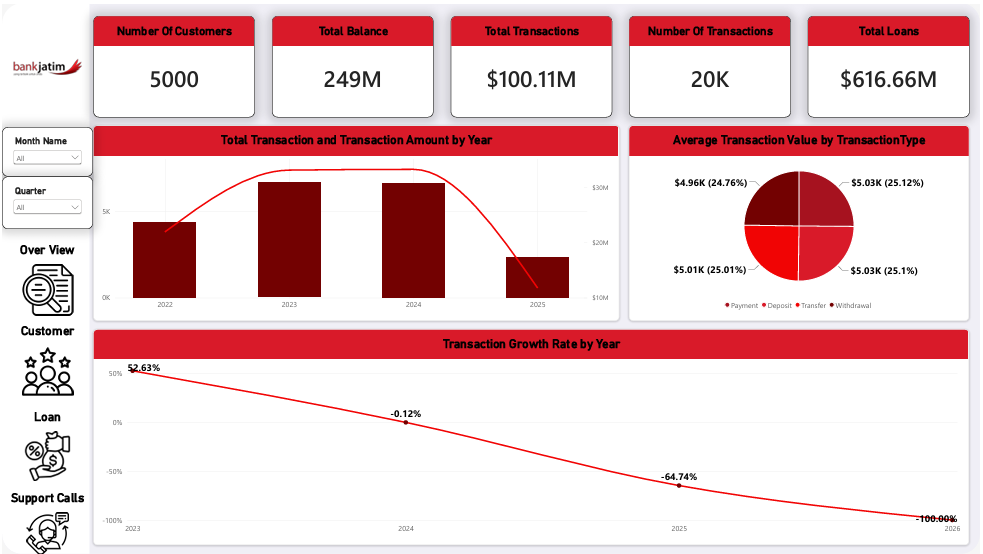

The dashboard page shown, as its layout file describes it:
{"tool":"powerbi","page":{"name":"Transaction","canvas":[1920,1080],"ordinal":3},"visuals":[{"type":"card","title":"Number Of Customers","fields":{"Values":["_Measure.Number Of Customers"]},"box":[178.9,22.7,317.5,199.1],"z":0},{"type":"card","title":"Total Transactions","fields":{"Values":["_Measure.Transaction Amount"]},"box":[880.6,22.7,317.5,199.1],"z":1000},{"type":"card","title":"Total Balance","fields":{"Values":["_Measure.Total Balance"]},"box":[529.8,22.7,317.5,199.1],"z":2000},{"type":"card","title":"Number Of Transactions","fields":{"Values":["_Measure.Total Transaction"]},"box":[1231.5,22.7,317.5,199.1],"z":3000},{"type":"card","title":"Total Loans","fields":{"Values":["_Measure.Total Loans"]},"box":[1582.4,22.7,317.5,199.1],"z":4000},{"type":"image","box":[0,23.4,178.6,199.8],"z":5000},{"type":"lineChart","fields":{"Y":["_Measure.Transaction Growth Rate"],"Category":["DimDate.Year"]},"box":[178.6,637.8,1719.9,423.1],"z":6000},{"type":"pieChart","fields":{"Y":["_Measure.Average Transaction Value"],"Category":["DimTransactionType.TransactionType"]},"box":[1230.9,238.1,667.6,382.7],"z":7000},{"type":"lineStackedColumnComboChart","fields":{"Category":["DimDate.Year"],"Y":["_Measure.Total Transaction"],"Y2":["_Measure.Transaction Amount"]},"box":[178.6,238.1,1033.2,382.7],"z":8000},{"type":"image","title":"Over View","box":[0,467.2,178.4,144.3],"z":9000},{"type":"image","title":"Customer","box":[0,626.9,178.4,144.3],"z":10000},{"type":"image","title":"Loan","box":[0,794.8,178.4,141.6],"z":11000},{"type":"image","title":"Support Calls","box":[0,954.1,178.4,125.9],"z":12000},{"type":"slicer","fields":{"Values":["DimDate.Month Name"]},"box":[0,241.3,178.4,97],"z":13000},{"type":"slicer","fields":{"Values":["DimDate.Quarter"]},"box":[0,338.4,178.4,102.3],"z":14000}]}

Visuals, with their boxes in screenshot pixels (x1, y1, x2, y2), scaled from the page's 1920x1080 canvas onto the 983x554 screenshot:
"Number Of Customers" card: x1=92 y1=12 x2=254 y2=114
"Total Transactions" card: x1=451 y1=12 x2=613 y2=114
"Total Balance" card: x1=271 y1=12 x2=434 y2=114
"Number Of Transactions" card: x1=631 y1=12 x2=793 y2=114
"Total Loans" card: x1=810 y1=12 x2=973 y2=114
image: x1=0 y1=12 x2=91 y2=114
lineChart - _Measure.Transaction Growth Rate x DimDate.Year: x1=91 y1=327 x2=972 y2=544
pieChart - _Measure.Average Transaction Value x DimTransactionType.TransactionType: x1=630 y1=122 x2=972 y2=318
lineStackedColumnComboChart - DimDate.Year x _Measure.Total Transaction: x1=91 y1=122 x2=620 y2=318
"Over View" image: x1=0 y1=240 x2=91 y2=314
"Customer" image: x1=0 y1=322 x2=91 y2=396
"Loan" image: x1=0 y1=408 x2=91 y2=480
"Support Calls" image: x1=0 y1=489 x2=91 y2=553
slicer - DimDate.Month Name: x1=0 y1=124 x2=91 y2=174
slicer - DimDate.Quarter: x1=0 y1=174 x2=91 y2=226
